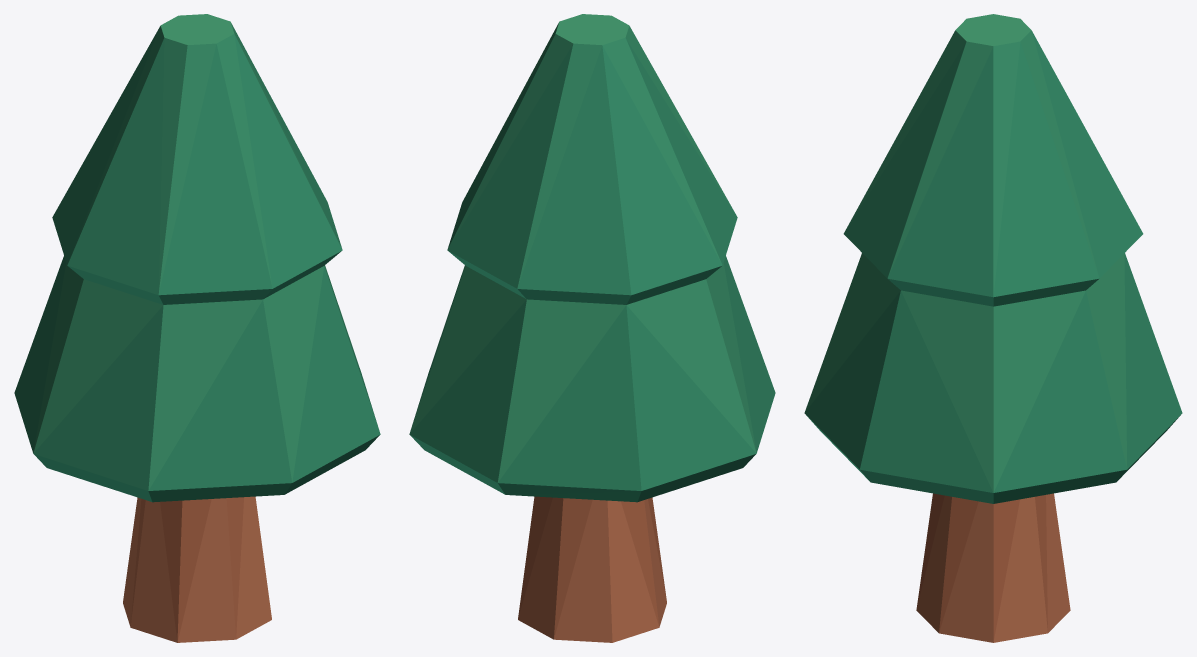
The model's file is kn_tree.obj.
3 views of the same model, side by side, from view 1: azimuth 30°, elevation 25°; view 2: azimuth 150°, elevation 25°; view 3: azimuth 270°, elevation 25° (orthographic).
Size of the model in its own units: 4.13 by 7 by 4.13.
